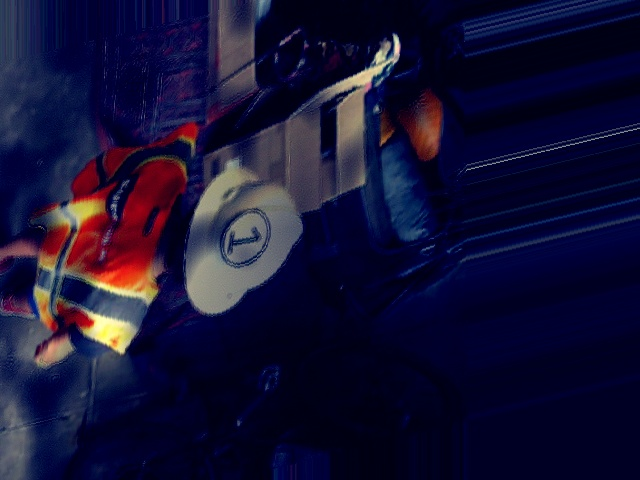one: (221, 203, 271, 271)
